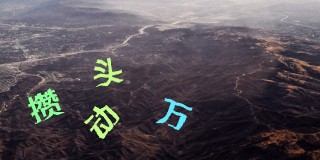万: (156, 96, 193, 132)
动: (84, 102, 120, 140)
头: (90, 56, 127, 87)
攒: (25, 86, 64, 125)
